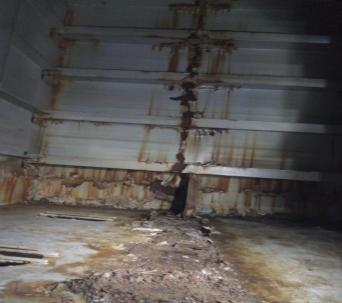corrosion: (67, 221, 282, 303), (33, 164, 158, 212), (187, 177, 304, 215), (175, 123, 243, 154), (17, 114, 56, 159), (150, 169, 189, 212), (0, 157, 27, 200), (39, 73, 71, 107), (133, 131, 168, 161), (156, 40, 185, 71), (206, 42, 229, 72), (48, 29, 69, 61), (178, 106, 199, 133), (174, 137, 192, 168), (198, 0, 210, 45), (144, 0, 174, 15), (59, 0, 80, 20), (143, 89, 160, 112)
